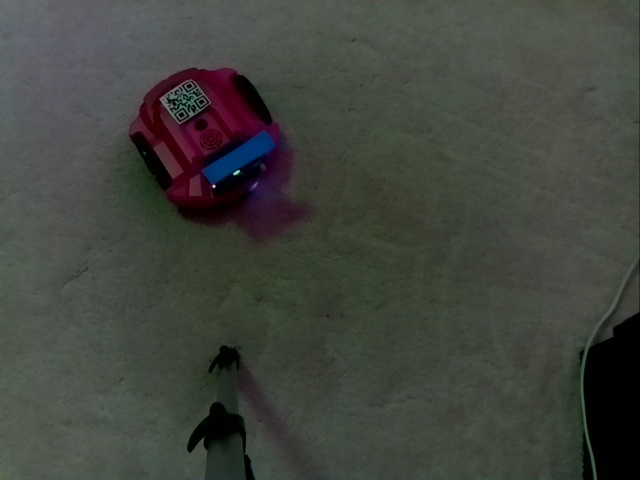chassis: (126, 60, 288, 222)
qr: (157, 75, 210, 124)
